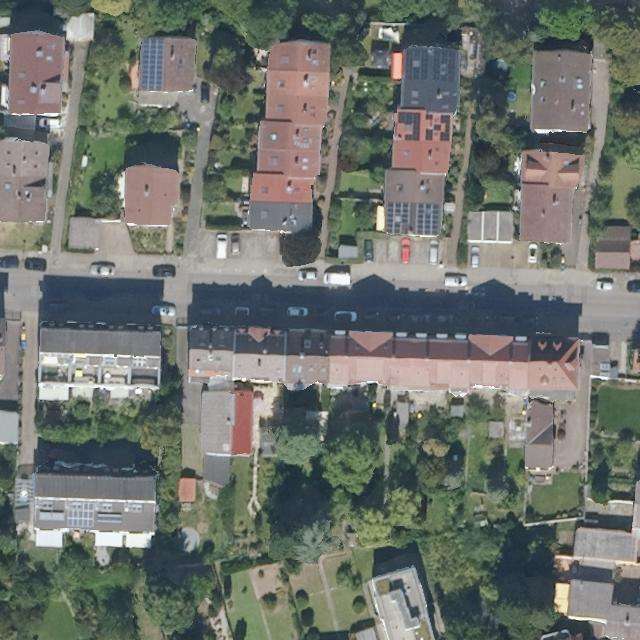PV: (399, 42, 463, 86), (383, 201, 446, 240), (135, 33, 168, 97), (64, 500, 96, 530), (396, 109, 422, 143), (439, 112, 452, 143)
